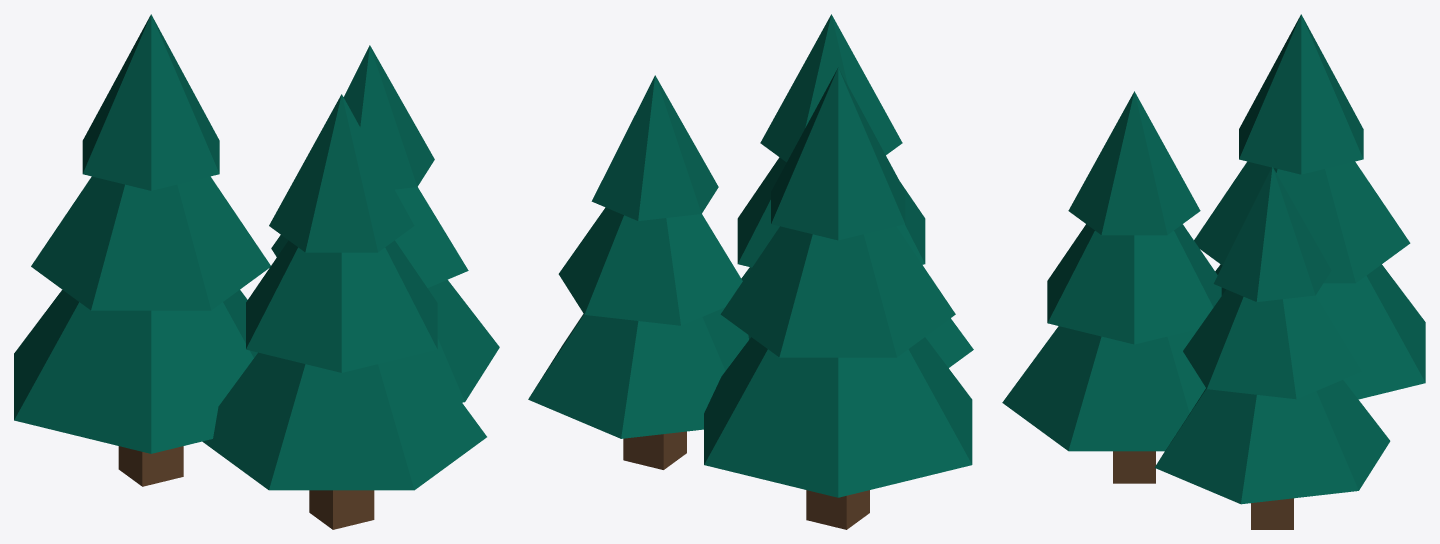
The model's file is grove.glb.
The picture shows the model from 3 angles, left to right: view 1: azimuth 30°, elevation 25°; view 2: azimuth 150°, elevation 25°; view 3: azimuth 270°, elevation 25°; orthographic projection. The views are drawn at different scales.
Parts seen in each view (by area): view 1: Model; view 2: Model; view 3: Model.
Part boxes in pixels (box(x1,y1,x2,y2)): Model: box(14, 14, 499, 529); Model: box(528, 14, 973, 529); Model: box(1002, 14, 1425, 529).
Size of the model in its own units: 1.65 by 1.6 by 1.47.
